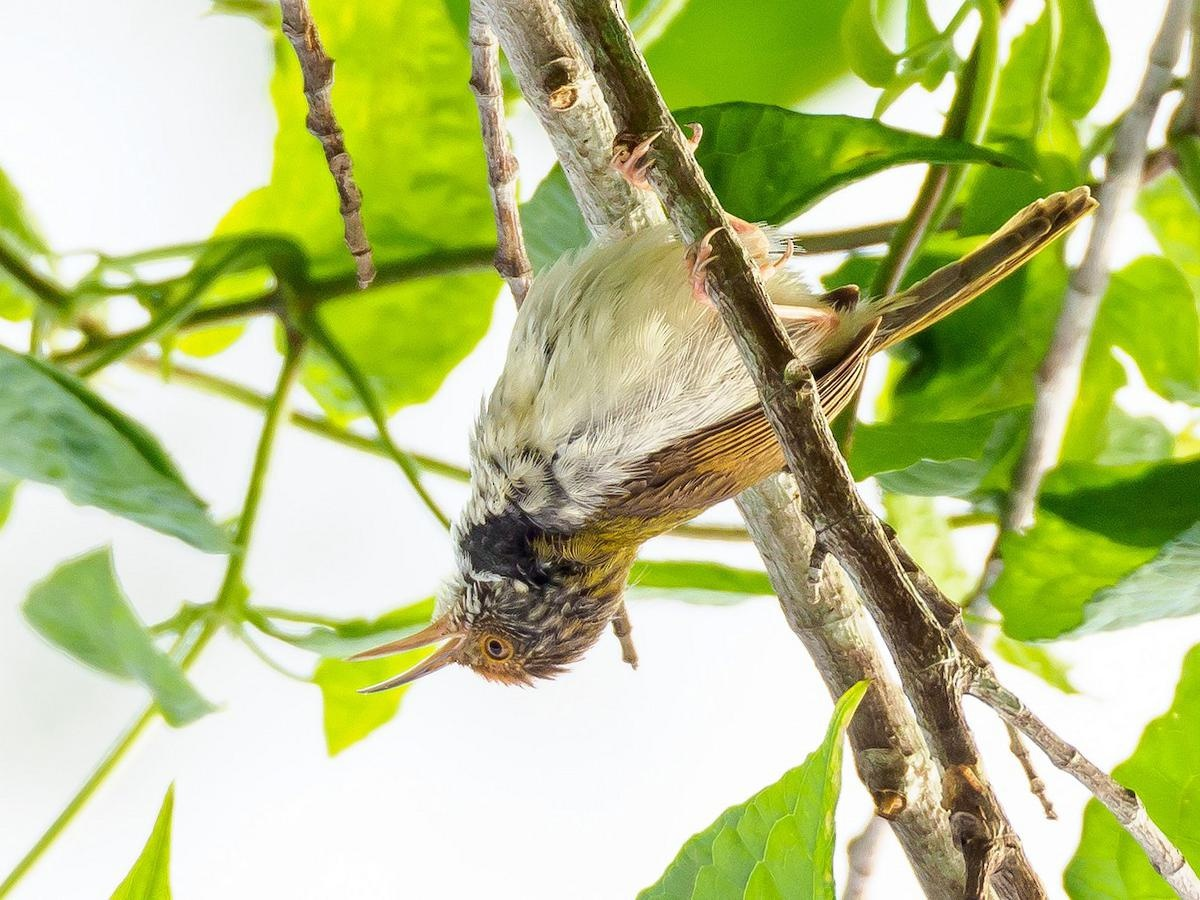tailorbird: (343, 146, 1100, 723)
